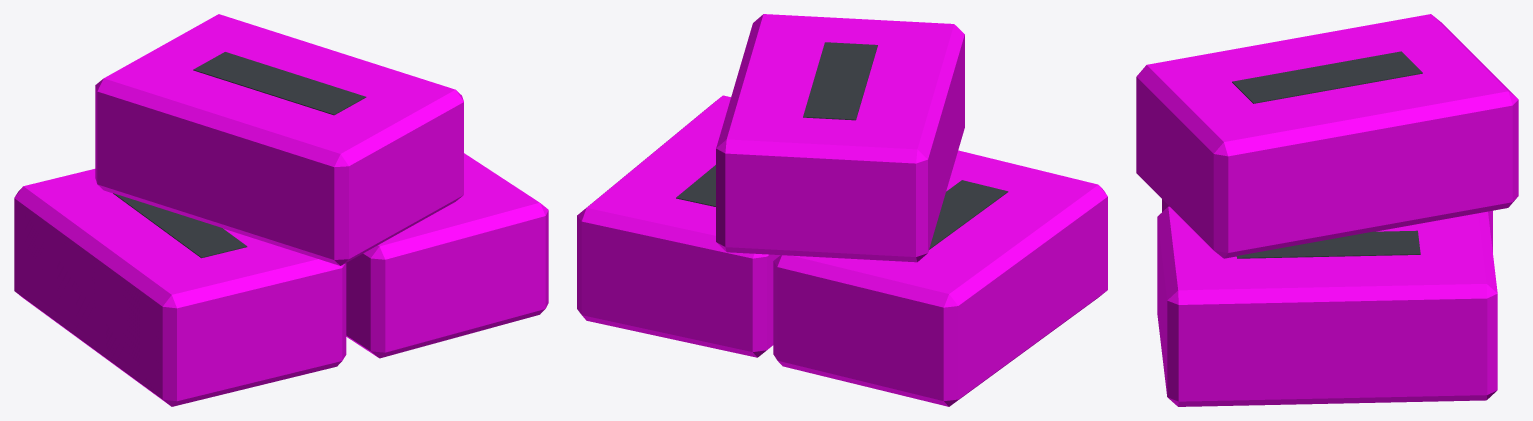
File: objet_bloc.glb
The picture shows the model from 3 angles, left to right: view 1: azimuth 30°, elevation 25°; view 2: azimuth 150°, elevation 25°; view 3: azimuth 270°, elevation 25°; orthographic projection. The views are drawn at different scales.
Parts seen in each view (by area): view 1: blocs_teinte.002, blocs_teinte_sombre.002; view 2: blocs_teinte.002, blocs_teinte_sombre.002; view 3: blocs_teinte.002, blocs_teinte_sombre.002.
Part boxes in pixels (box(x1,y1,x2,y2)): blocs_teinte.002: box(14, 14, 548, 406); blocs_teinte_sombre.002: box(113, 52, 366, 258); blocs_teinte.002: box(577, 14, 1107, 406); blocs_teinte_sombre.002: box(676, 42, 1008, 249); blocs_teinte.002: box(1136, 14, 1518, 406); blocs_teinte_sombre.002: box(1232, 51, 1422, 258).
Size of the model in its own units: 0.2541 by 0.141 by 0.2078.
